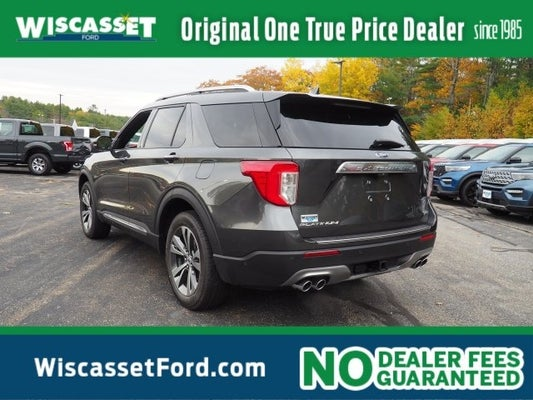Ford Explorer: (77, 83, 441, 314)
